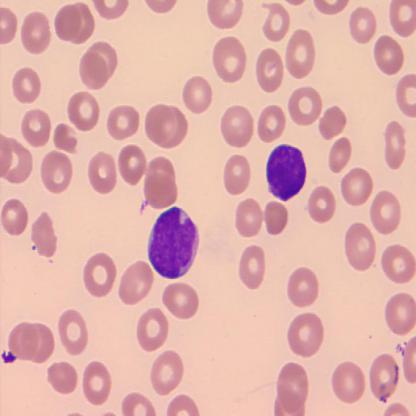Blast: (146, 204, 200, 282), (265, 142, 307, 203)
